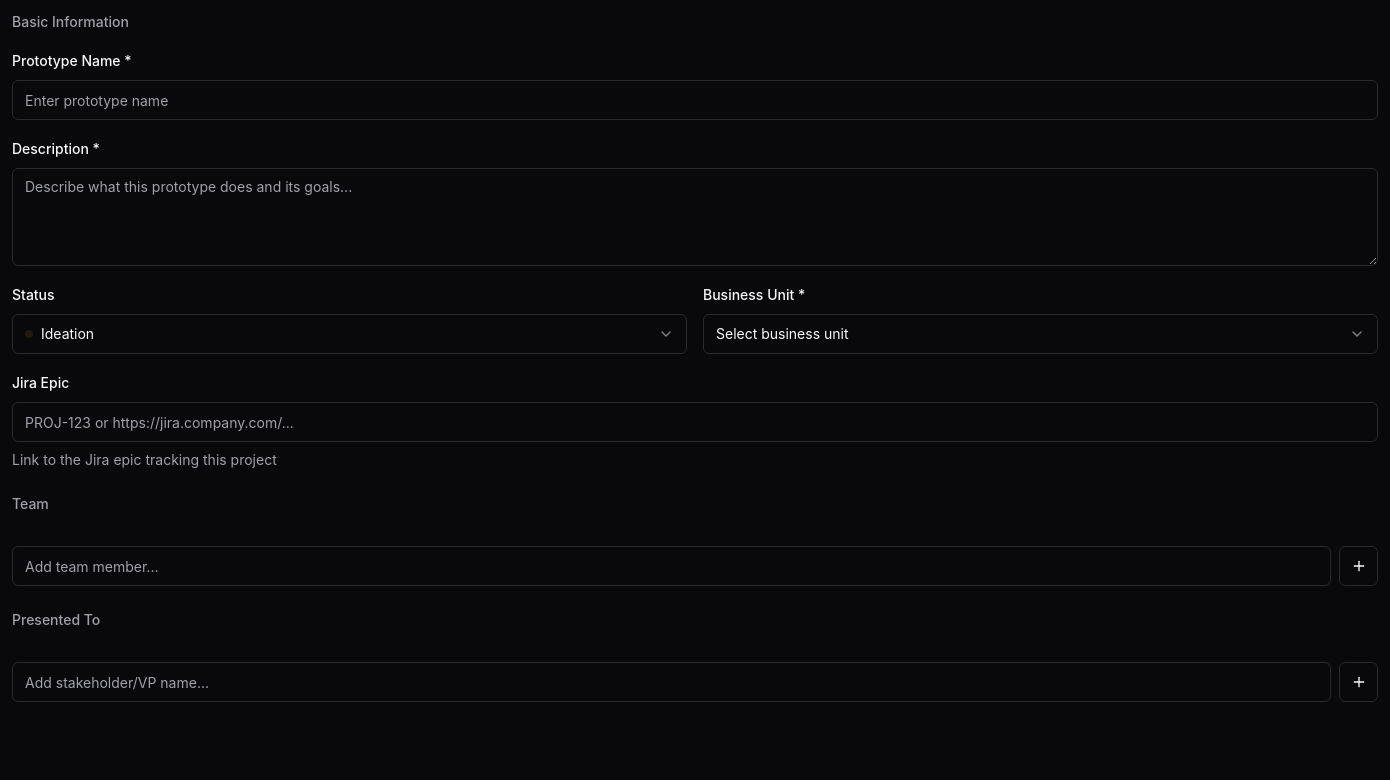
Test: PrototypeSheet Business Unit selector › renders options from org units filtered to the business_unit type
Click the dropdown labelled "Select business unit": (782, 334) [703,314,1378,354]
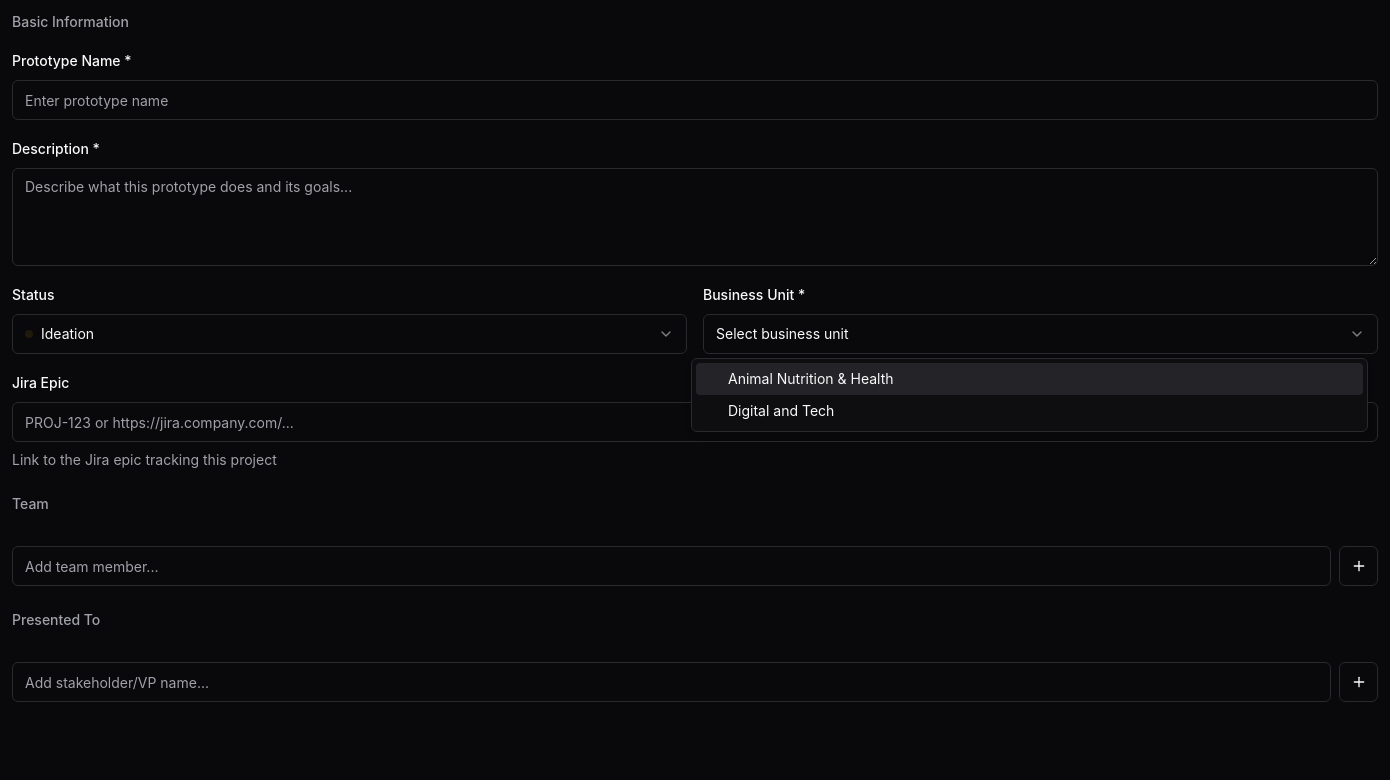
Expected: the option "Animal Nutrition & Health" is shown, [696,363,1363,395]
Expected: the option "Digital and Tech" is shown, [728,402,834,419]
